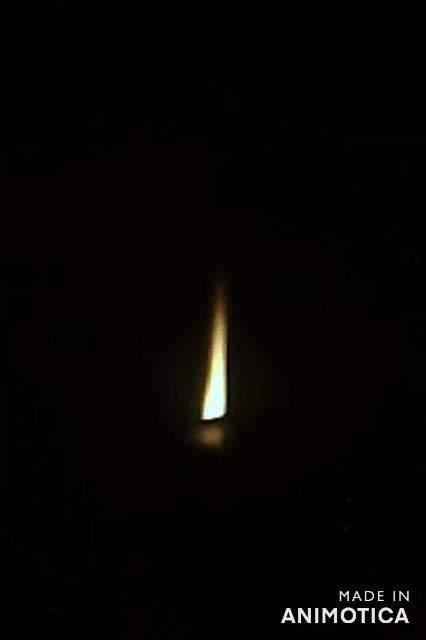burner flame: (200, 288, 232, 420)
